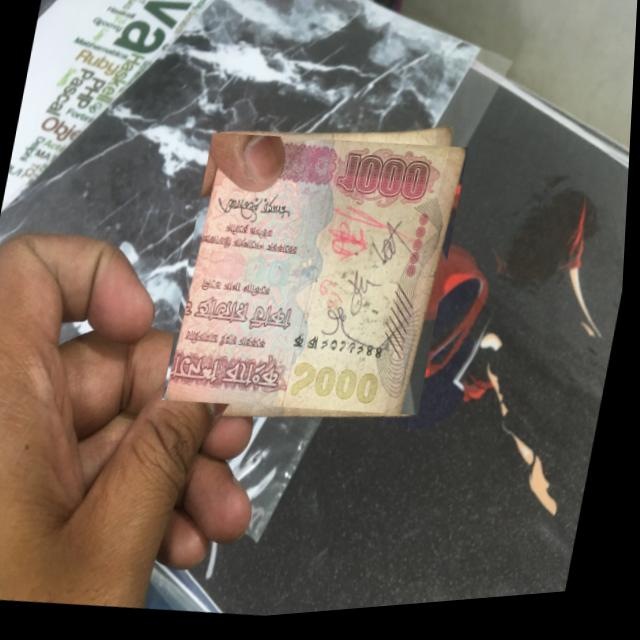Taka: (165, 120, 472, 439)
